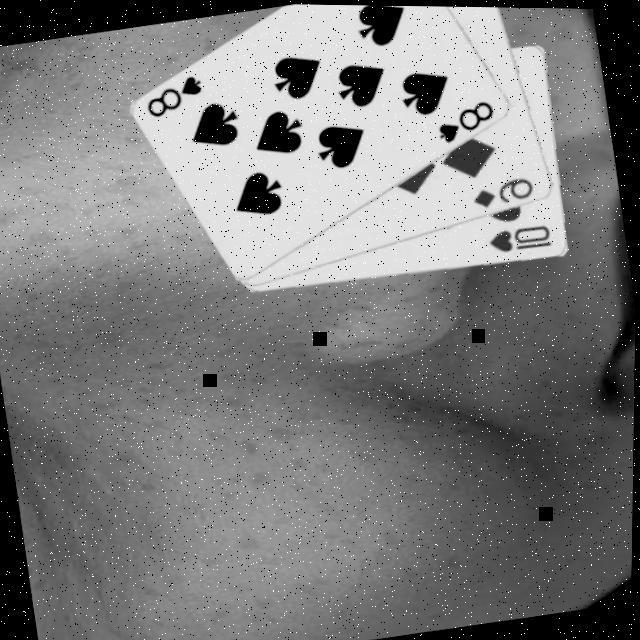10H: (483, 218, 555, 256)
8S: (137, 68, 208, 122), (429, 94, 500, 146)
9D: (467, 170, 537, 212)
